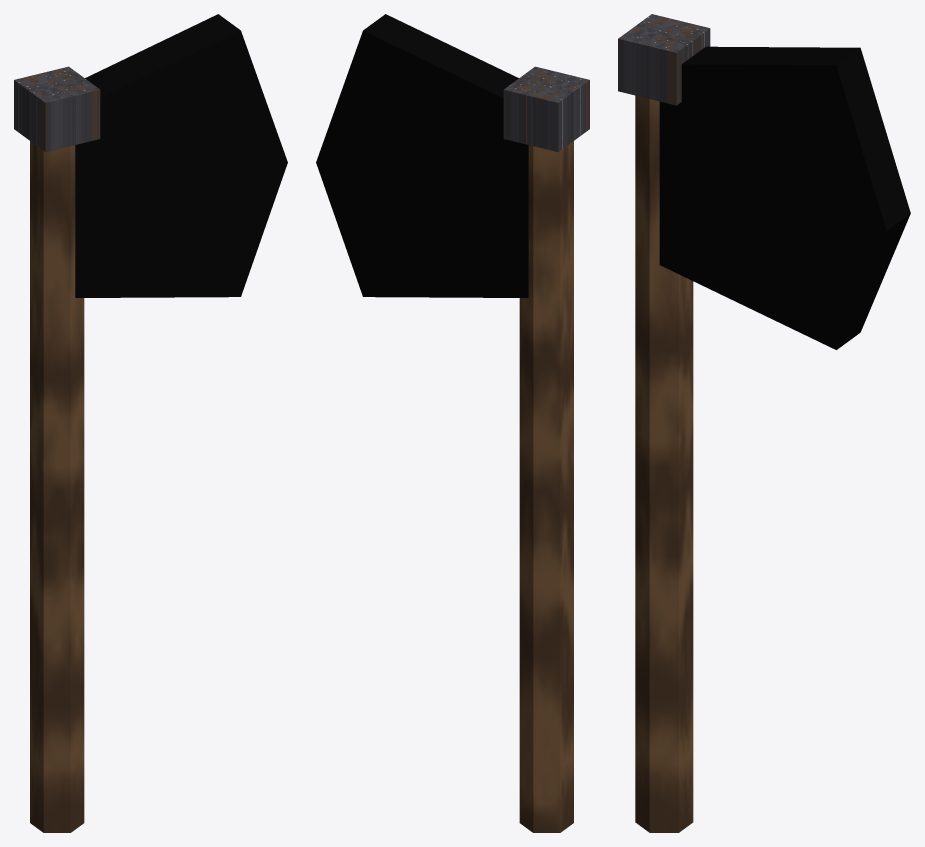
File: rival_ice_axe.obj
3 views of the same model, side by side, from view 1: azimuth 30°, elevation 25°; view 2: azimuth 150°, elevation 25°; view 3: azimuth 330°, elevation 25° (orthographic). The views are drawn at different scales.
Parts seen in each view (by area): view 1: rival_ice_axe; view 2: rival_ice_axe; view 3: rival_ice_axe.
Part boxes in pixels (box(x1,y1,x2,y2)): rival_ice_axe: box(14, 14, 287, 832); rival_ice_axe: box(316, 14, 589, 832); rival_ice_axe: box(618, 14, 910, 832).
Bounding box in the file's own units: 0.3937 × 1.16 × 0.0874.
